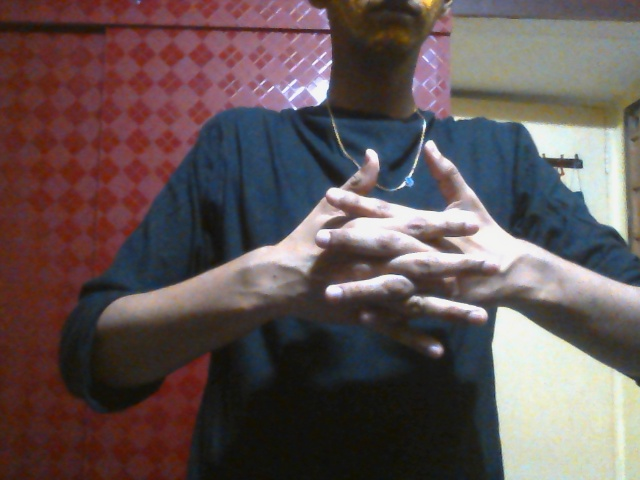W: (276, 140, 504, 391)
